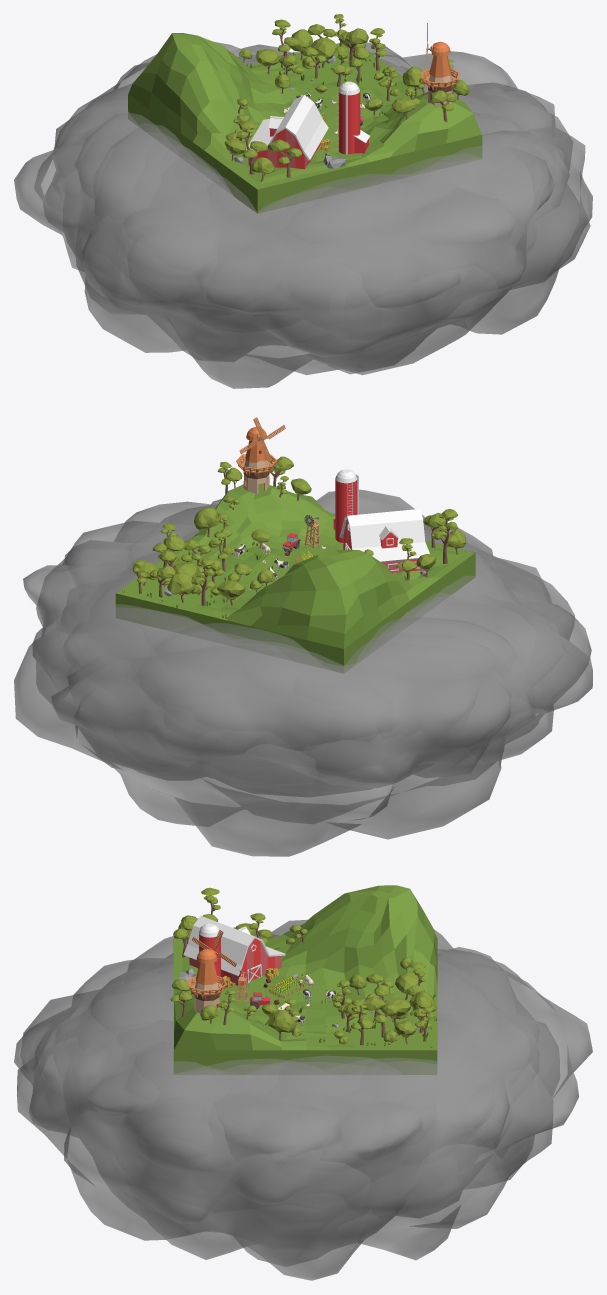
The model's file is CS299_Main.glb.
3 renders of one model, top to bottom at view 1: azimuth 30°, elevation 25°; view 2: azimuth 150°, elevation 25°; view 3: azimuth 270°, elevation 25°, orthographic.
Visible parts, largest first — view 1: Object_3.001, Object_3, Object_3.002, Field, Object_3.003, Object_28, Object_31, Windmill_Windmill Top_0, Tree 19, Object_10, Tree 18, Object_14 (+1 smaller); view 2: Object_3.003, Object_3.002, Object_3, Object_3.001, Field, Object_28, Object_31, Tree 19; view 3: Object_3.002, Object_3.001, Object_3.003, Object_3, Field, Object_28, Object_31, Object_14, Windmill_Windmill Top_0, Tree 2, Tree 5.
Part boxes in pixels (x1=…): Object_3.001: x1=75, y1=54, x2=592, y2=374; Object_3: x1=14, y1=51, x2=555, y2=342; Object_3.002: x1=43, y1=86, x2=582, y2=388; Field: x1=128, y1=33, x2=482, y2=213; Object_3.003: x1=52, y1=42, x2=569, y2=316; Object_28: x1=246, y1=88, x2=339, y2=160; Object_31: x1=258, y1=91, x2=368, y2=169; Windmill_Windmill Top_0: x1=429, y1=41, x2=451, y2=77; Tree 19: x1=236, y1=120, x2=267, y2=174; Object_10: x1=338, y1=81, x2=369, y2=154; Tree 18: x1=267, y1=139, x2=302, y2=177; Object_14: x1=248, y1=129, x2=322, y2=168; Object_3.003: x1=23, y1=520, x2=562, y2=784; Object_3.002: x1=14, y1=504, x2=517, y2=856; Object_3: x1=62, y1=489, x2=592, y2=787; Object_3.001: x1=59, y1=501, x2=591, y2=797; Field: x1=115, y1=483, x2=475, y2=673; Object_28: x1=339, y1=481, x2=429, y2=570; Object_31: x1=333, y1=479, x2=416, y2=571; Tree 19: x1=431, y1=509, x2=459, y2=563; Object_3.002: x1=54, y1=949, x2=559, y2=1280; Object_3.001: x1=17, y1=919, x2=538, y2=1250; Object_3.003: x1=81, y1=934, x2=592, y2=1215; Object_3: x1=14, y1=927, x2=539, y2=1189; Field: x1=173, y1=885, x2=437, y2=1074; Object_28: x1=183, y1=916, x2=285, y2=982; Object_31: x1=191, y1=934, x2=274, y2=994; Object_14: x1=189, y1=941, x2=281, y2=985; Windmill_Windmill Top_0: x1=196, y1=948, x2=217, y2=984; Tree 2: x1=363, y1=996, x2=398, y2=1037; Tree 5: x1=267, y1=1009, x2=296, y2=1040.
Size of the model in its own units: 363 by 242 by 359.
